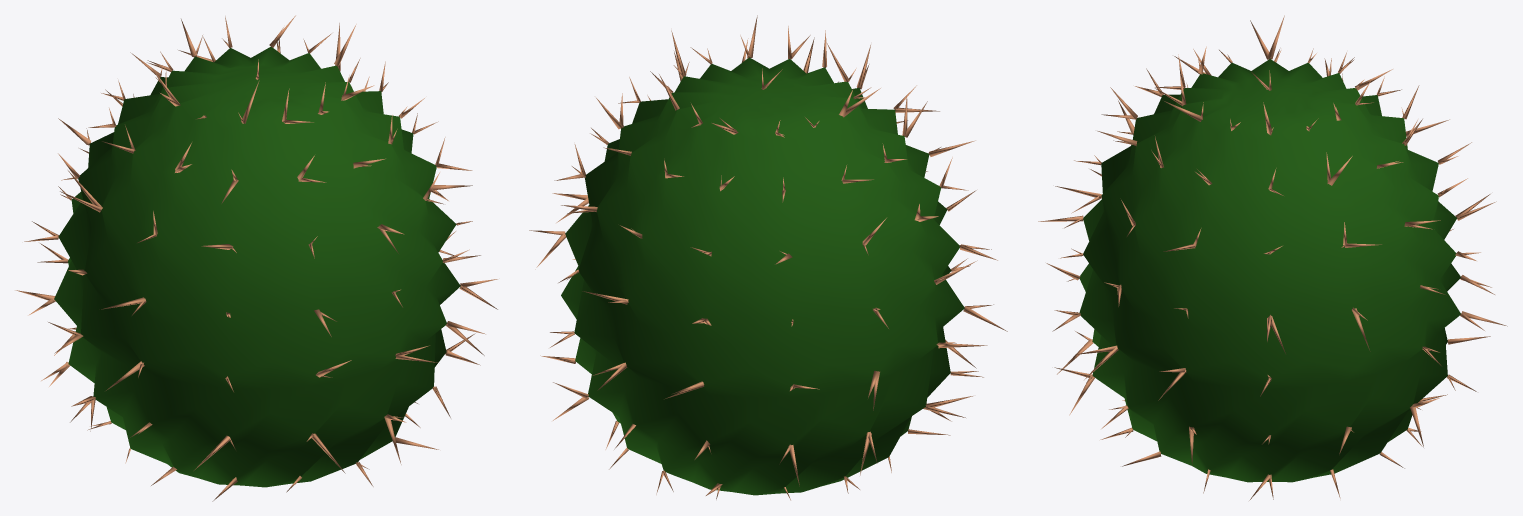
File: cactusSmall.fbx
The picture shows the model from 3 angles, left to right: view 1: azimuth 30°, elevation 25°; view 2: azimuth 150°, elevation 25°; view 3: azimuth 270°, elevation 25°; orthographic projection. The views are drawn at different scales.
Visible parts, largest first — view 1: cactusSmall; view 2: cactusSmall; view 3: cactusSmall.
Boxes of the visible parts, <box> form: cactusSmall: <box>15,15,497,501</box>; cactusSmall: <box>529,15,1007,500</box>; cactusSmall: <box>1038,15,1507,500</box>.
Bounding box in the file's own units: 1.07 × 0.9523 × 1.05.
